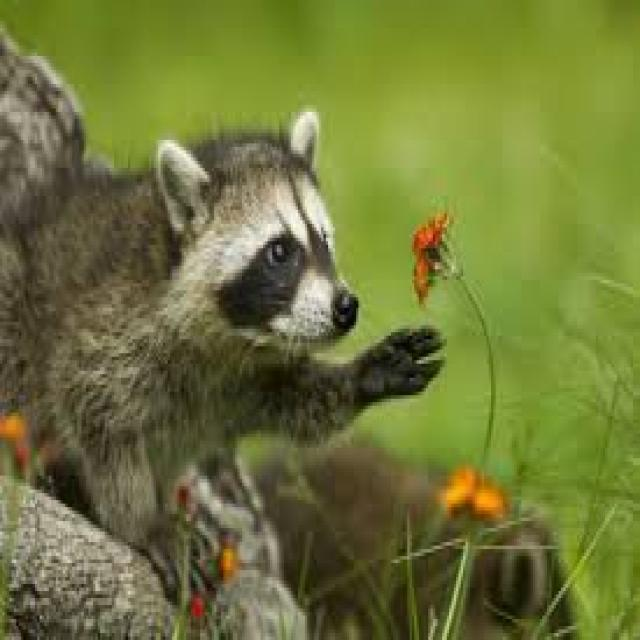Raccoon: (0, 100, 455, 581)
